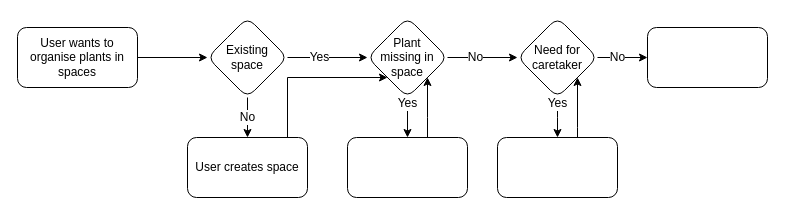
This 785x215 diagram has some shape labels left out. Here are the shapes that lost their labels. From the top down, the centre of each, then its label:
At [707,57]: "Done".
At [407,167]: "User adds plant".
At [557,167]: "User adds caretaker".
